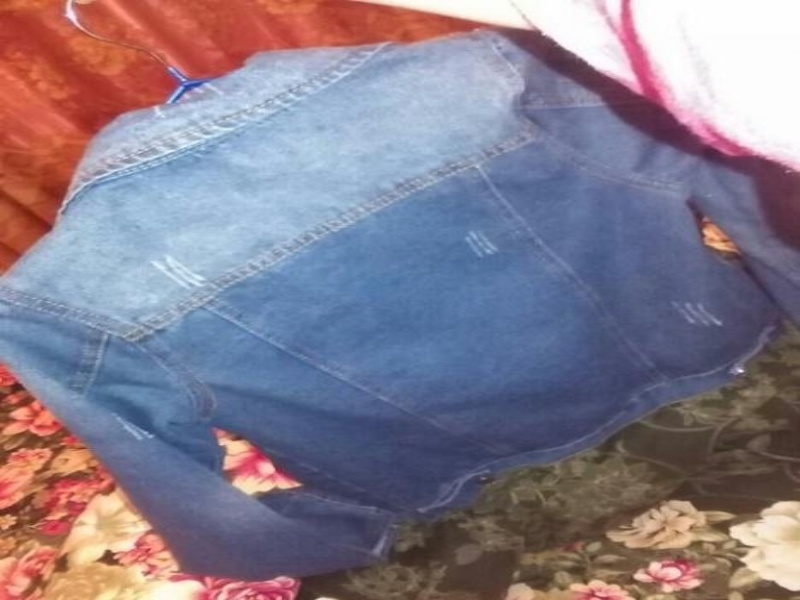long_sleeved_shirt: (0, 24, 798, 584)
